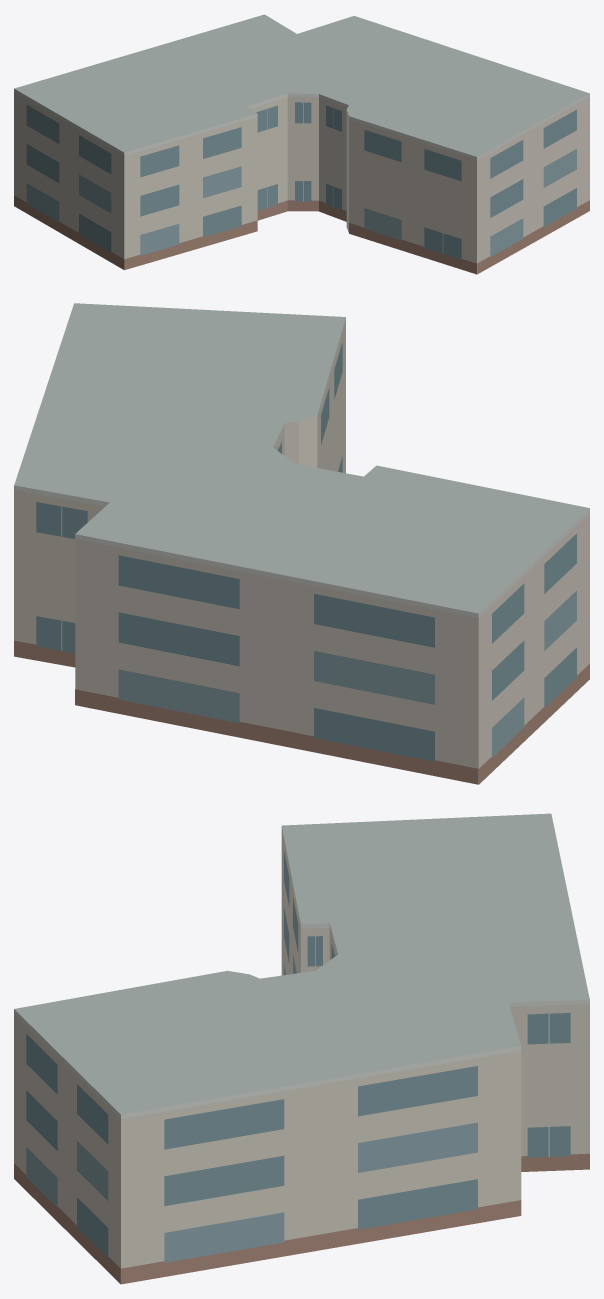
Rendered from survey-upis-32965605.glb.
The picture shows the model from 3 angles, top to bottom: view 1: azimuth 30°, elevation 25°; view 2: azimuth 150°, elevation 25°; view 3: azimuth 270°, elevation 25°; orthographic projection. The views are drawn at different scales.
Parts seen in each view (by area): view 1: survey-upis-32965605.tmp; view 2: survey-upis-32965605.tmp; view 3: survey-upis-32965605.tmp.
Boxes of the visible parts, box(x1,y1,x2,y2) form: survey-upis-32965605.tmp: box(14, 14, 589, 274); survey-upis-32965605.tmp: box(14, 303, 589, 784); survey-upis-32965605.tmp: box(14, 813, 589, 1284).
Size of the model in its own units: 34.78 by 9.15 by 28.12.
